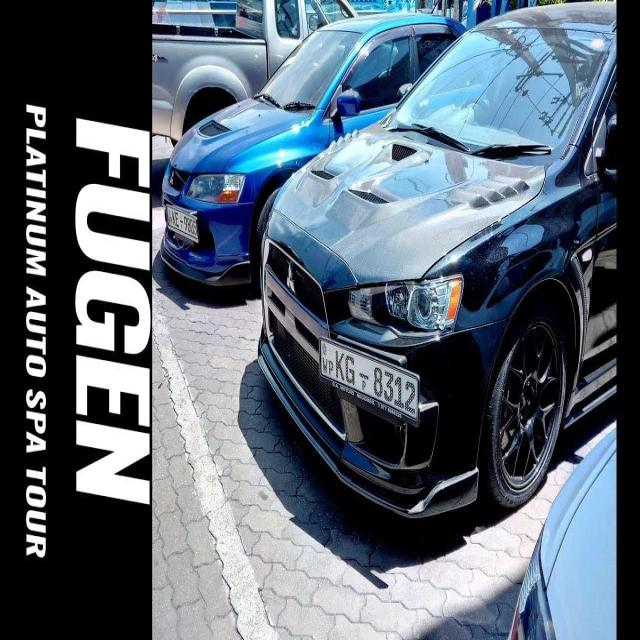license-plate: (321, 335, 418, 421), (165, 203, 198, 240)
